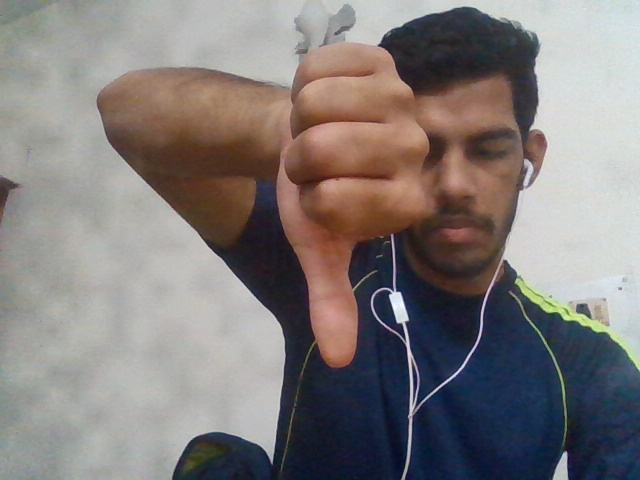no: (276, 48, 421, 370)
